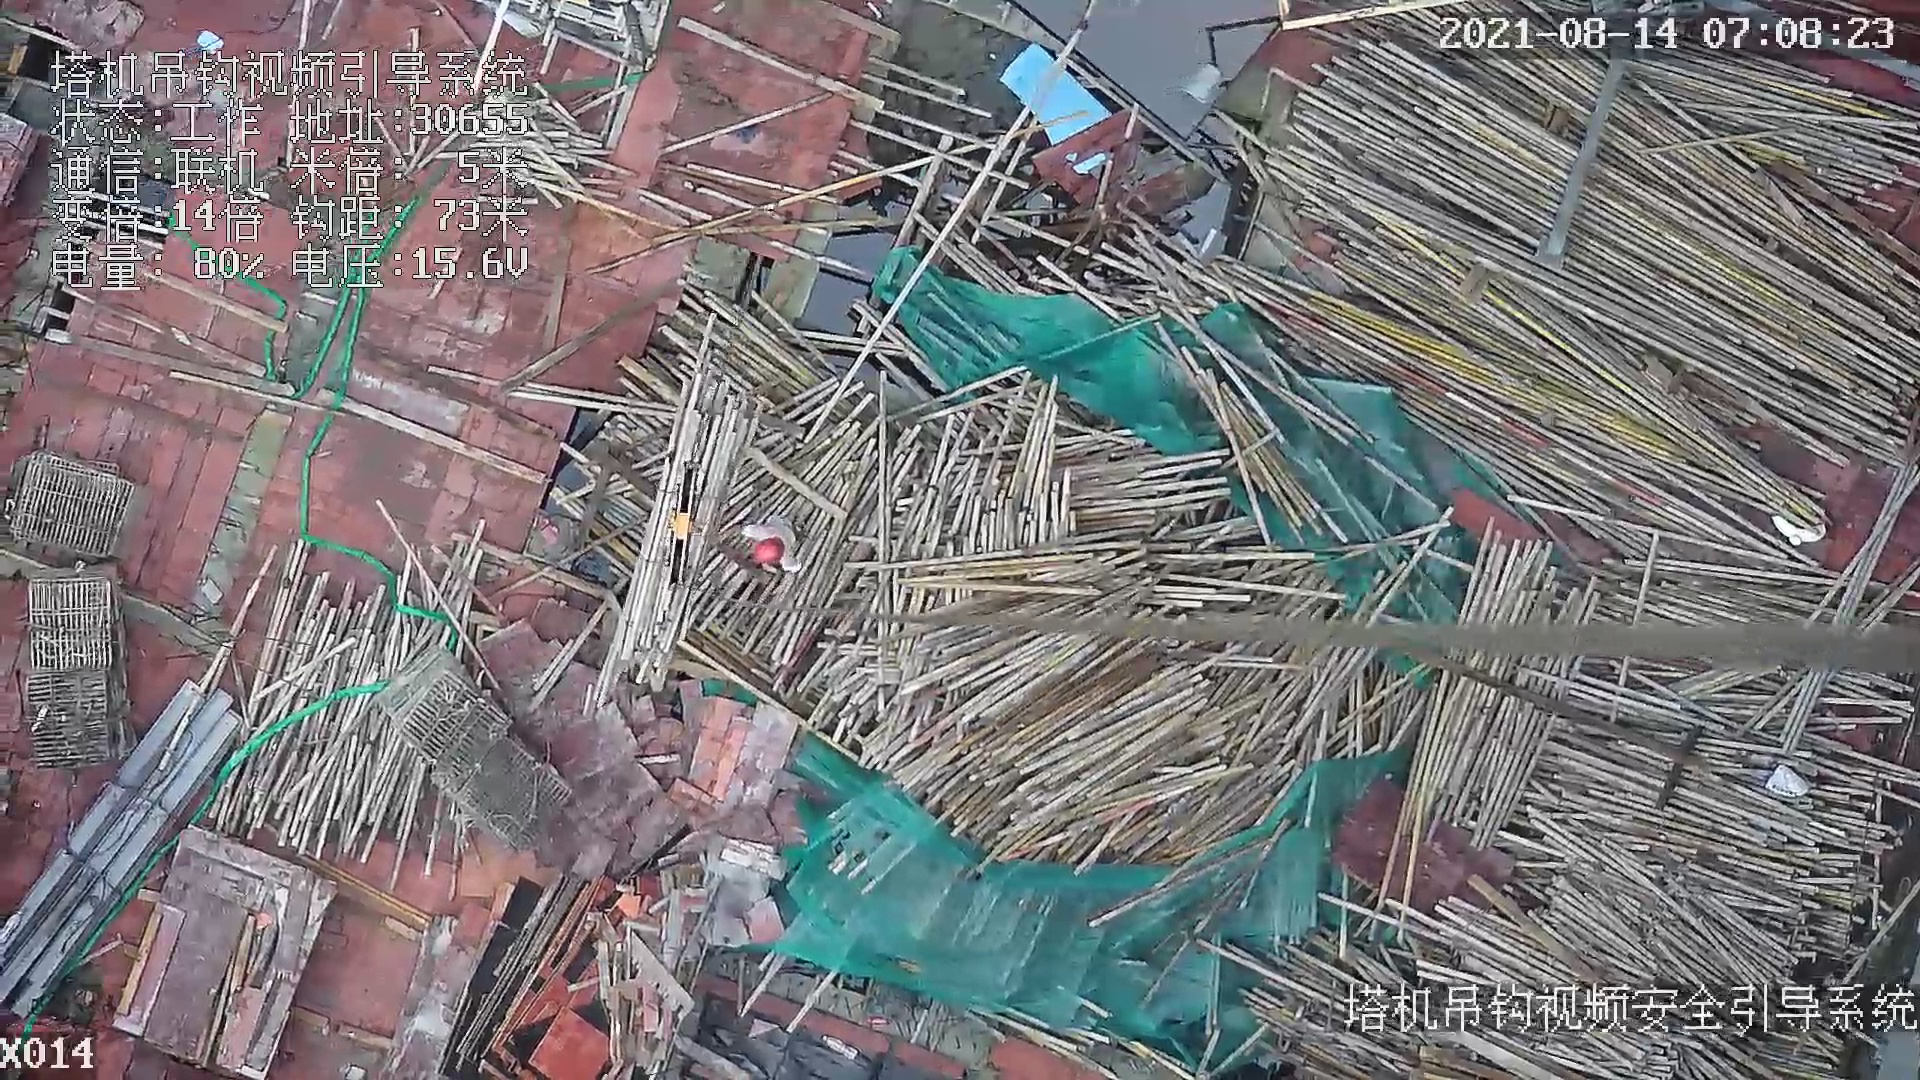helmet: (755, 539, 786, 564)
hook: (665, 460, 709, 596)
person: (744, 509, 799, 573)
